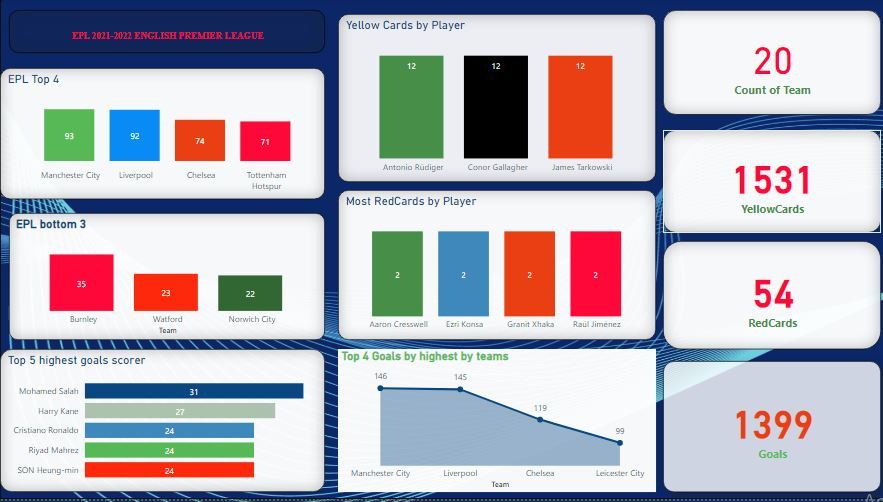

This screenshot's page, from the dashboard's own definition file:
{"tool":"powerbi","page":{"name":"Page 1","canvas":[1280,720],"ordinal":0},"visuals":[{"type":"barChart","title":"EPL Top 4","fields":{"Category":["table.Team"],"Y":["table.Pts"]},"box":[27.4,99.4,414.7,188.6],"z":0},{"type":"barChart","title":"EPL bottom 3","fields":{"Category":["table.Team"],"Y":["table.Pts"]},"box":[27.4,308.2,414.7,159.8],"z":1000},{"type":"barChart","title":"Top 5 highest goals scorer","fields":{"Category":["all stat.Player"],"Y":["all stat.Goals"]},"box":[27.4,491,414.7,195.8],"z":2000},{"type":"barChart","title":"Most RedCards by Player","fields":{"Category":["all stat.Player"],"Y":["all stat.RedCards"]},"box":[456.5,308.2,416.2,182.9],"z":3000},{"type":"areaChart","fields":{"Category":["all stat.Team"],"Y":["all stat.Goals"]},"box":[456.5,504,416.2,182.9],"z":4000},{"type":"barChart","title":"Yellow Cards by Player","fields":{"Category":["all stat.Player"],"Y":["all stat.YellowCards"]},"box":[456.5,99.4,416.2,188.6],"z":5000},{"type":"card","fields":{"Values":["all stat.Team"]},"box":[910.1,15.8,313.9,115.2],"z":6000},{"type":"card","fields":{"Values":["all stat.YellowCards"]},"box":[910.1,158.4,313.9,129.6],"z":7000},{"type":"card","fields":{"Values":["all stat.RedCards"]},"box":[910.1,308.2,313.9,182.9],"z":8000},{"type":"textbox","box":[13,15.8,455,61.9],"z":9000},{"type":"card","fields":{"Values":["all stat.Goals"]},"box":[910.1,504,313.9,182.9],"z":10000}]}

Visuals, with their boxes in screenshot pixels (x1, y1, x2, y2), scaled from the page's 1280x720 canvas onto the 883x502 screenshot:
"EPL Top 4" barChart: 19/69/305/201
"EPL bottom 3" barChart: 19/215/305/326
"Top 5 highest goals scorer" barChart: 19/342/305/479
"Most RedCards by Player" barChart: 315/215/602/342
areaChart - all stat.Team x all stat.Goals: 315/351/602/479
"Yellow Cards by Player" barChart: 315/69/602/201
card - all stat.Team: 628/11/844/91
card - all stat.YellowCards: 628/110/844/201
card - all stat.RedCards: 628/215/844/342
textbox: 9/11/323/54
card - all stat.Goals: 628/351/844/479
